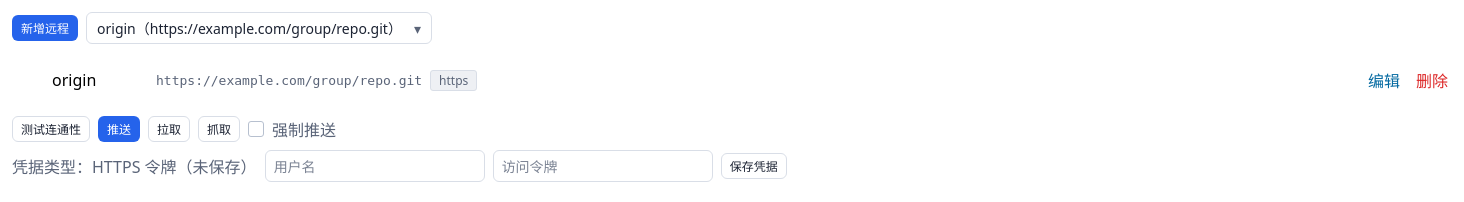
Scenario: RemoteManager（T6-03 远程与凭据） › 令牌输入框为 password，保存后写入密钥环且不残留明文
Type "dev" into the field with test id "cred-username". click: [375, 166]
box: [274,151,476,181]
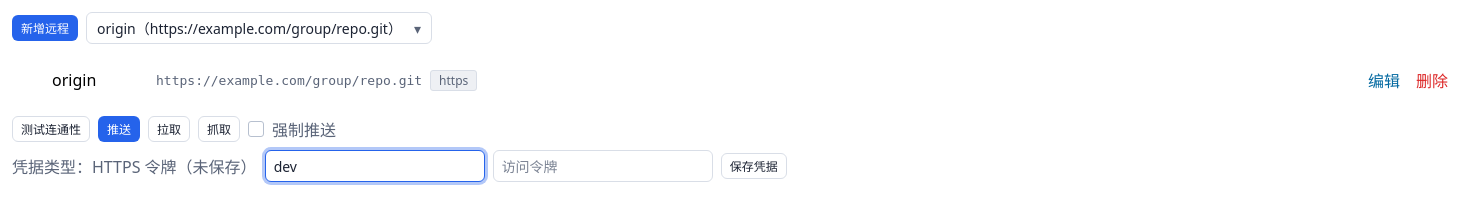
Type "ghp_secret_token_value" into the password field with test id "cred-token". click: [603, 166]
box: [502,151,704,181]
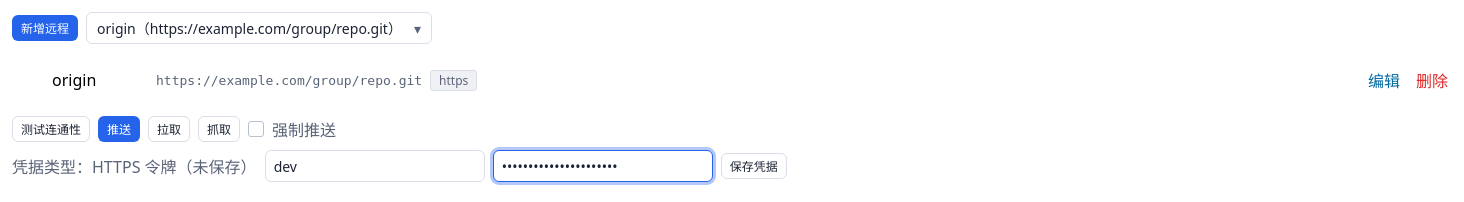
Click the button with test id "cred-save". click: [754, 166]
box: [721,153,787,179]
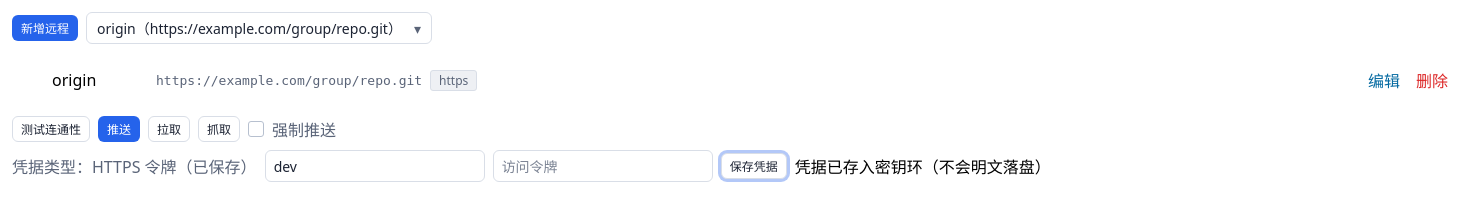
Check: the password field with test id "cred-token" is empty, box [502,151,704,181]
Check: the message with test id "cred-saved" shows "不会明文落盘", box [795,156,1051,178]
